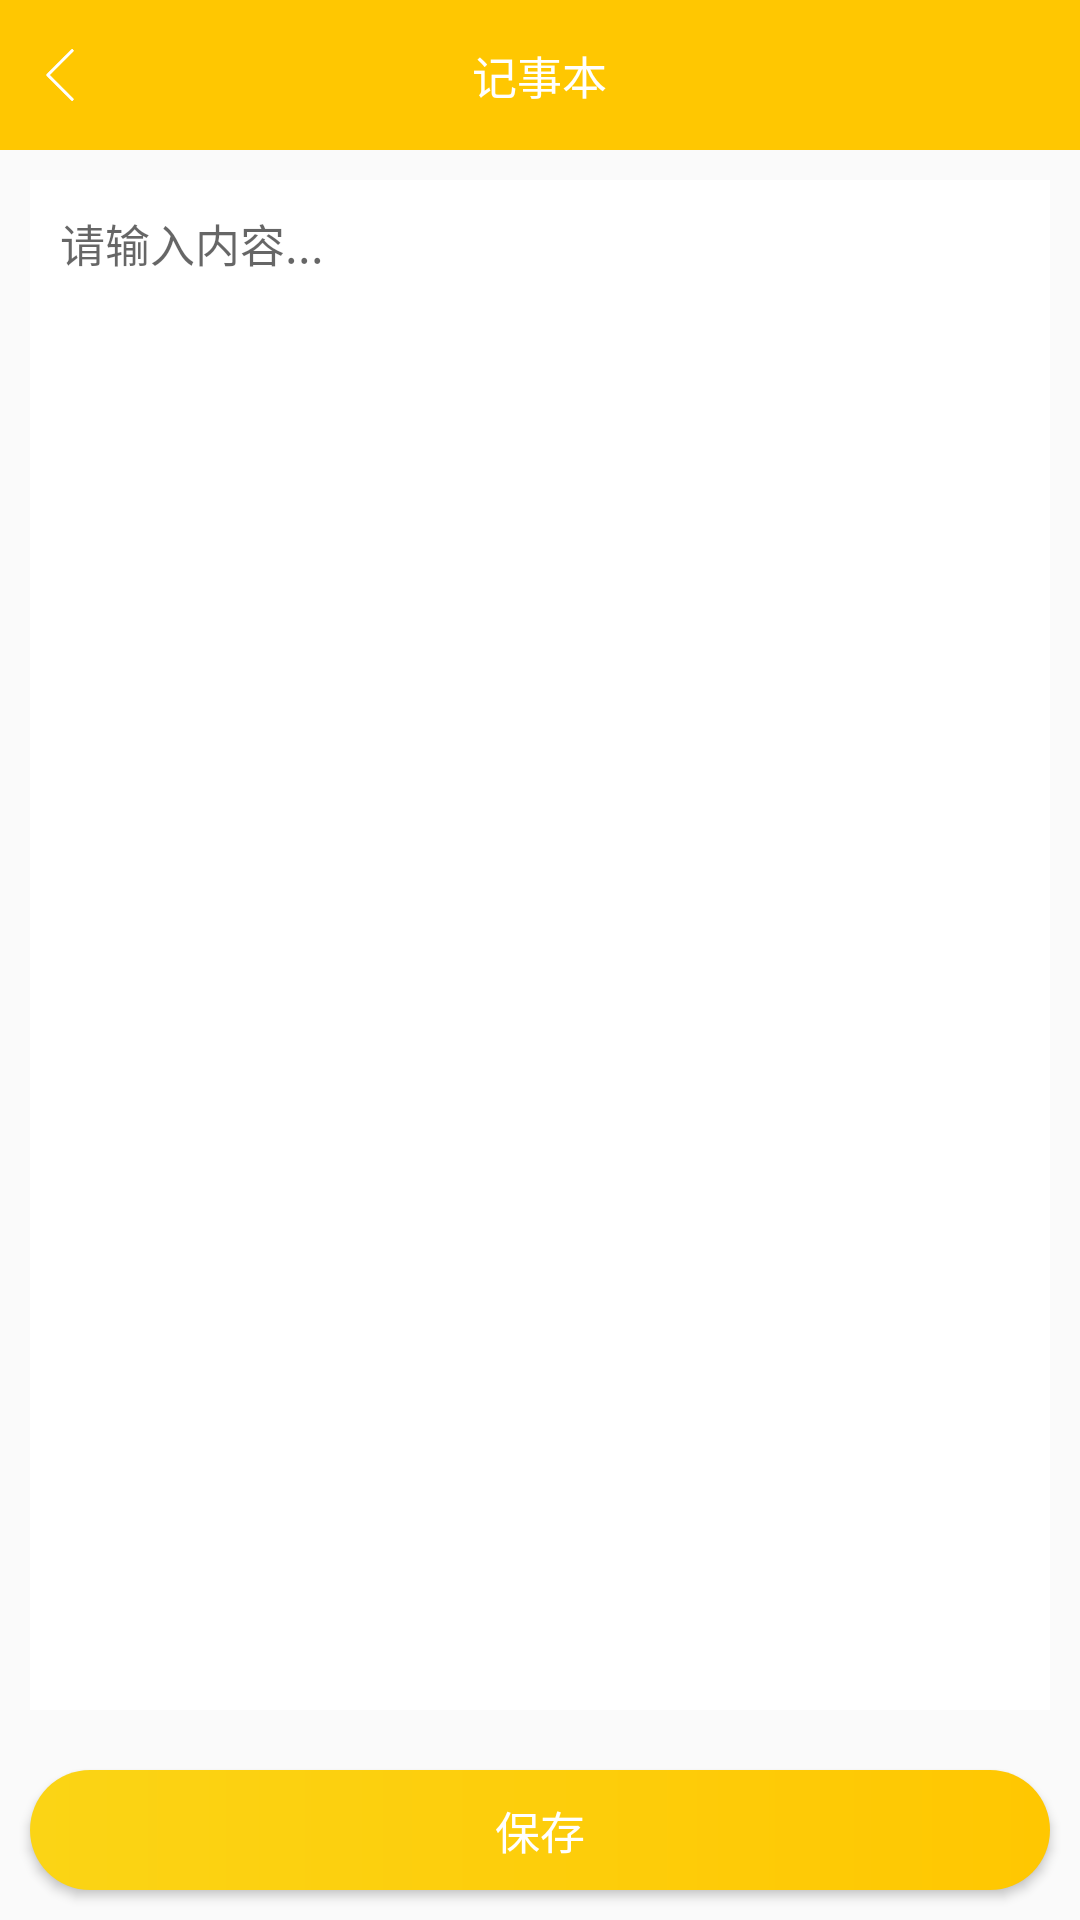

Screen size 1080*1920. Icon name, then its box in pixels as BBox(x1, y1, x2, y2):
back: BBox(46, 49, 74, 101)
